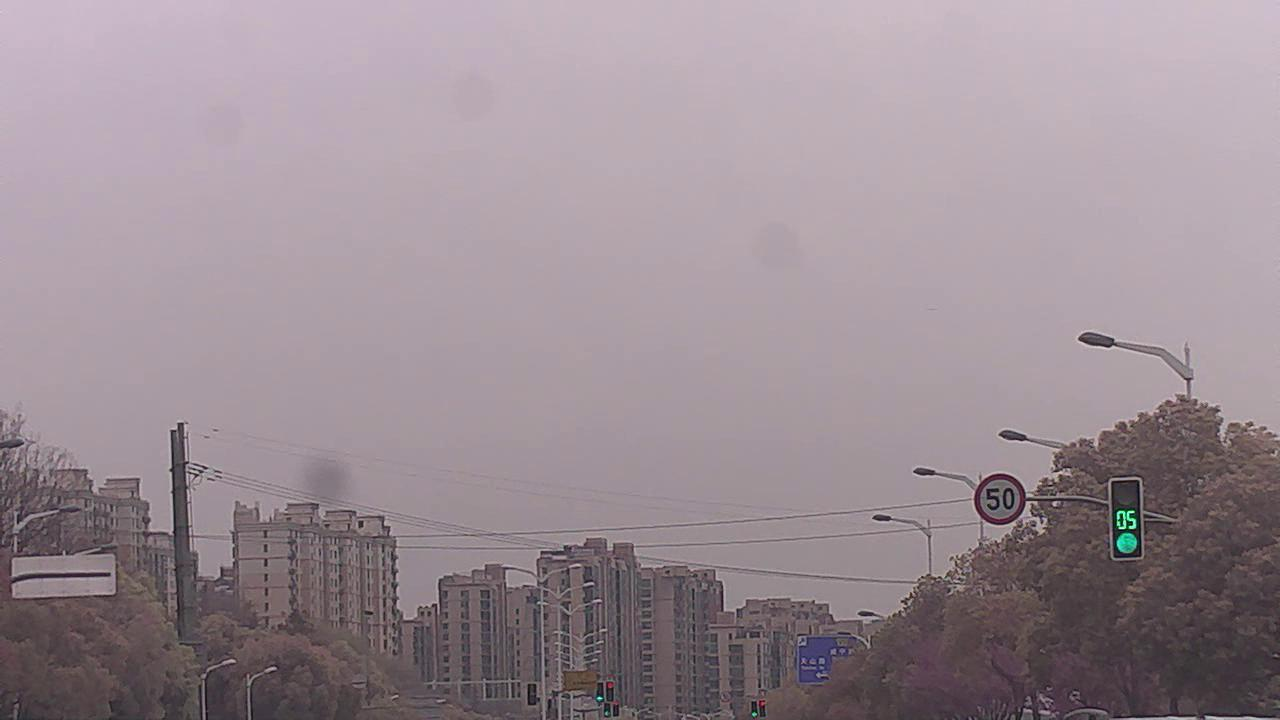traffic_light: (1114, 479, 1144, 561), (610, 697, 619, 719), (595, 683, 604, 702), (758, 698, 766, 716), (751, 699, 758, 719), (603, 701, 610, 719), (606, 682, 613, 699)
